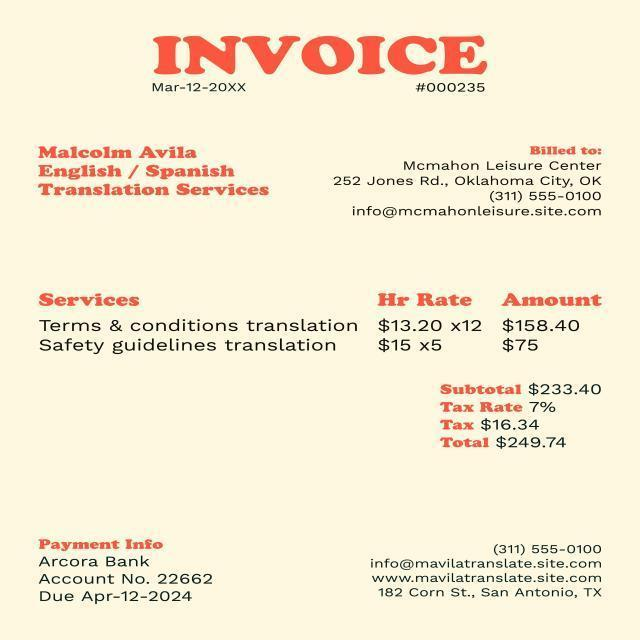paragraph: (330, 125, 611, 227), (352, 540, 614, 607), (34, 141, 279, 210), (39, 530, 225, 607), (146, 33, 499, 73), (434, 379, 608, 457), (408, 78, 496, 98), (149, 83, 252, 95)
table: (38, 279, 607, 363)
